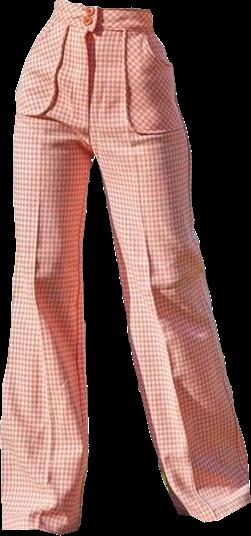Hemline: (174, 495, 250, 523), (1, 522, 82, 535)
Pantleg: (85, 6, 250, 521), (0, 0, 101, 534)
Waistline: (50, 14, 153, 34), (53, 0, 150, 12)
